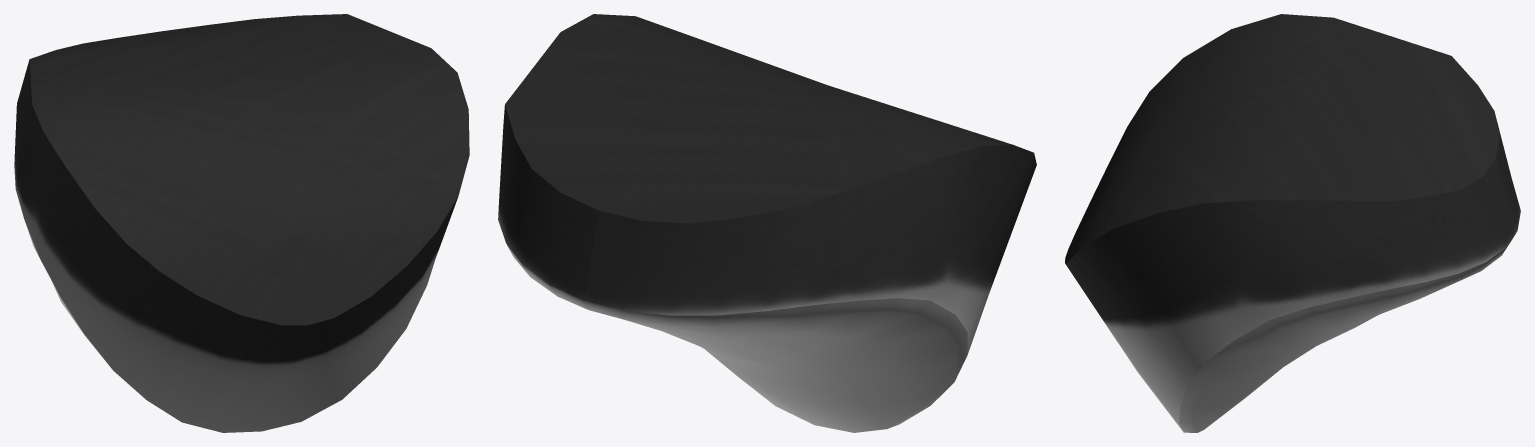
File: oculus_quest2_controller_left_trigger.obj
The picture shows the model from 3 angles, left to right: view 1: azimuth 30°, elevation 25°; view 2: azimuth 150°, elevation 25°; view 3: azimuth 270°, elevation 25°; orthographic projection. The views are drawn at different scales.
Visible parts, largest first — view 1: oculus_quest2_controller_left_trigger; view 2: oculus_quest2_controller_left_trigger; view 3: oculus_quest2_controller_left_trigger.
Boxes of the visible parts, x1=… form: oculus_quest2_controller_left_trigger: x1=14, y1=14, x2=469, y2=432; oculus_quest2_controller_left_trigger: x1=498, y1=14, x2=1036, y2=432; oculus_quest2_controller_left_trigger: x1=1065, y1=14, x2=1520, y2=432.
Bounding box in the file's own units: 0.0264 × 0.0208 × 0.0269.
Materials: 1 (1 with a texture image).
